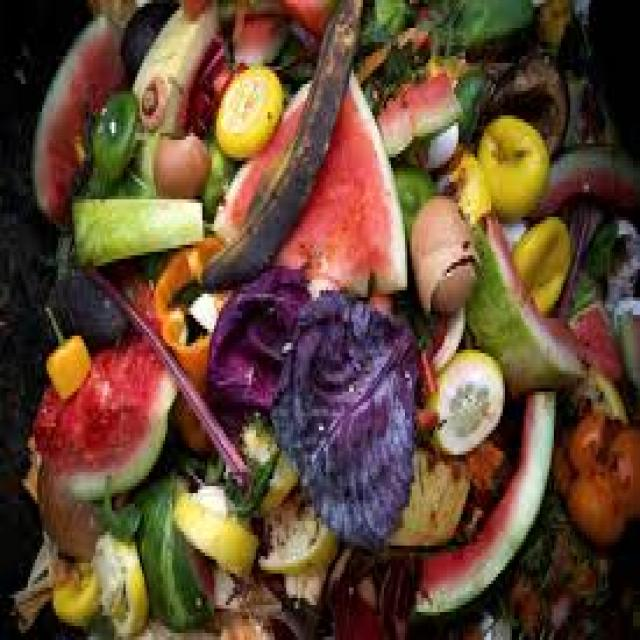food_waste: (52, 102, 595, 578)
